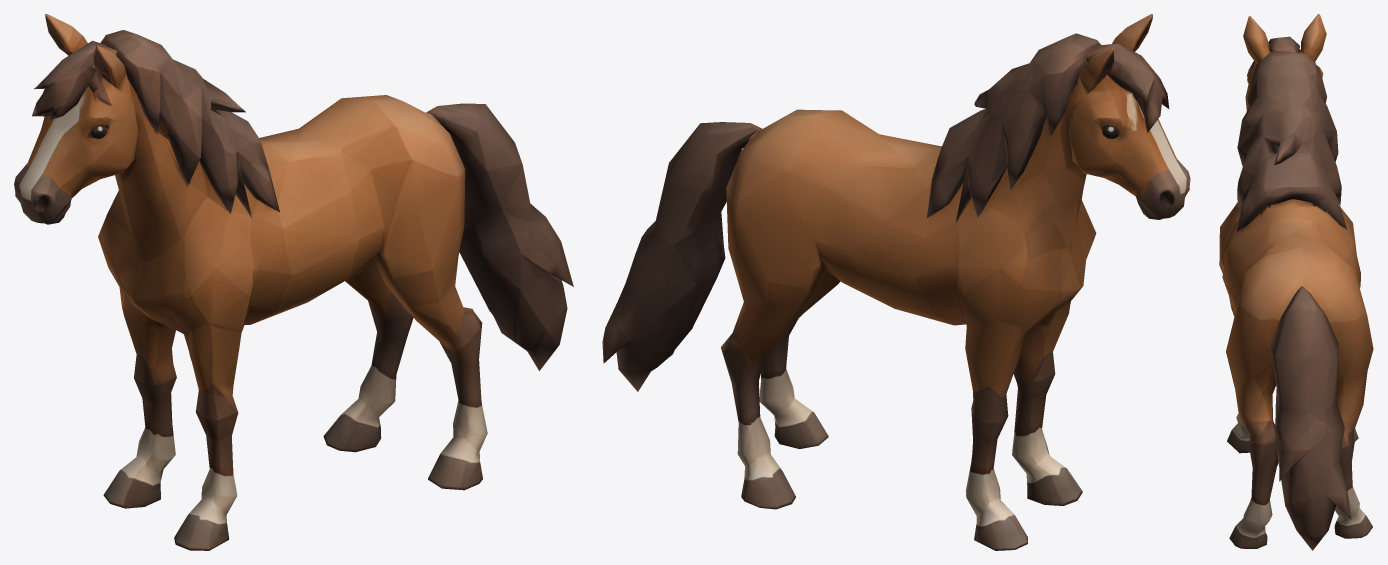
The model's file is horse.glb.
3 views of the same model, side by side, from view 1: azimuth 30°, elevation 25°; view 2: azimuth 150°, elevation 25°; view 3: azimuth 270°, elevation 25° (orthographic). The views are drawn at different scales.
Parts seen in each view (by area): view 1: e82cb762_8a39_47ab_b353_a0bc522bef03; view 2: e82cb762_8a39_47ab_b353_a0bc522bef03; view 3: e82cb762_8a39_47ab_b353_a0bc522bef03.
Part boxes in pixels (box(x1,y1,x2,y2)): e82cb762_8a39_47ab_b353_a0bc522bef03: box(14, 14, 573, 550); e82cb762_8a39_47ab_b353_a0bc522bef03: box(602, 14, 1190, 550); e82cb762_8a39_47ab_b353_a0bc522bef03: box(1219, 14, 1373, 550).
Size of the model in its own units: 0.9995 by 0.8911 by 0.3149.
Materials: 1 (1 with a texture image).
